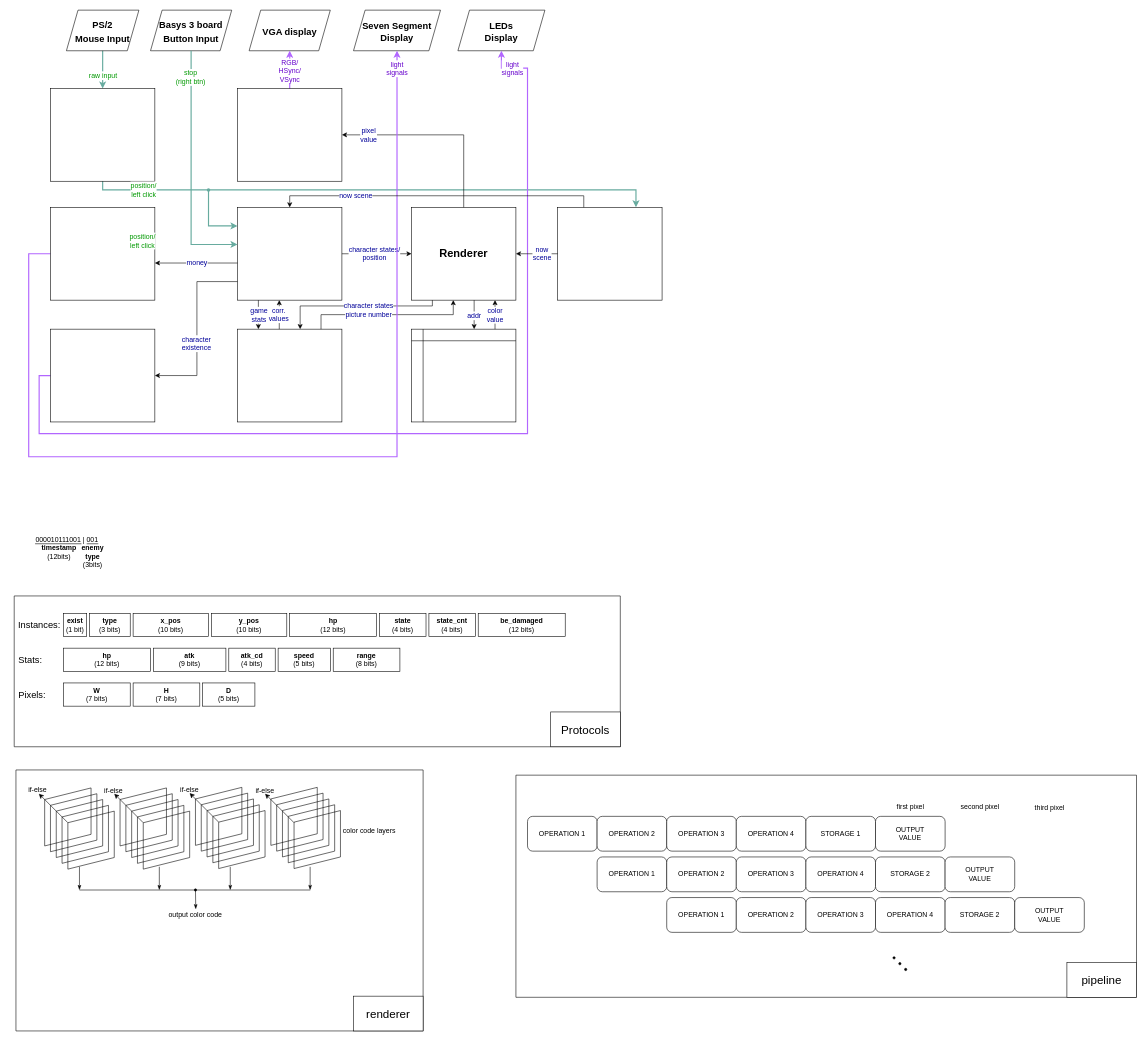
This 1147x1041 diagram has some shape labels left out. Each missing label, with the centre of its shape:
Decoders: (289,375)
Game Engine: (289,253)
LED Controller: (102,375)
Mouse Controller: (102,134)
Pictures/Fonts: (463,375)
Scene Controller: (609,253)
Seven Segment Controller: (102,253)
VGA Controller: (289,134)
